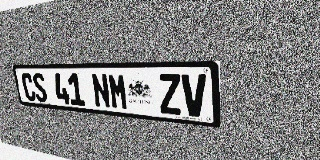1: (66, 73, 85, 106)
4: (53, 73, 71, 105)
C: (20, 73, 37, 101)
M: (108, 73, 129, 110)
N: (91, 73, 111, 109)
S: (31, 73, 48, 103)
V: (181, 74, 207, 118)
Z: (158, 74, 182, 115)
